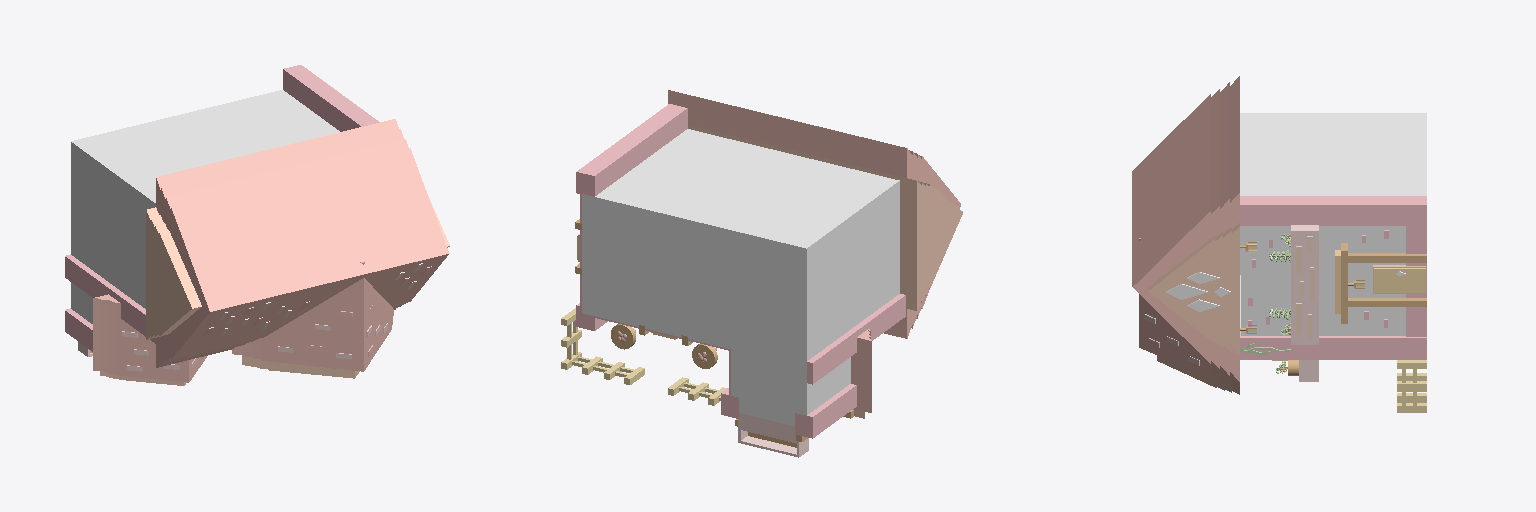
Rendered from tinker.obj.
The picture shows the model from 3 angles: view 1: azimuth 30°, elevation 25°; view 2: azimuth 150°, elevation 25°; view 3: azimuth 270°, elevation 25°; orthographic projection.
Parts seen in each view (by area): view 1: obj_0; view 2: obj_0; view 3: obj_0.
Part boxes in pixels (bbox=[...]): obj_0: bbox=[65, 65, 449, 385]; obj_0: bbox=[561, 90, 962, 457]; obj_0: bbox=[1132, 76, 1426, 412].
Bounding box in the file's own units: 351 × 308 × 336.